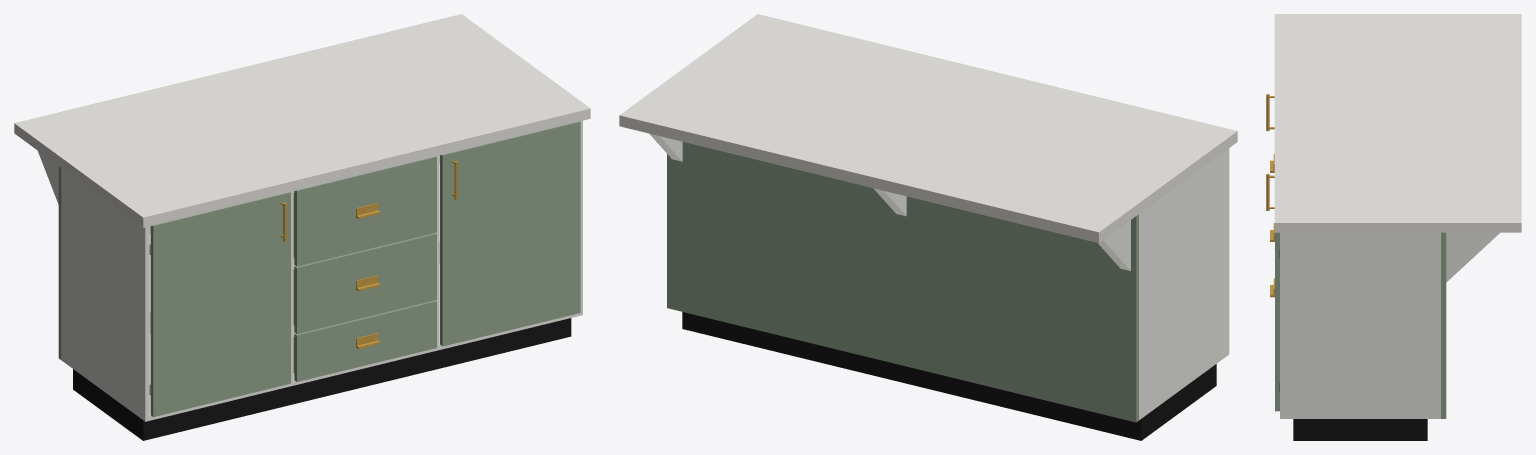
File: 020_kitchen_island.glb
3 views of the same model, side by side, from view 1: azimuth 30°, elevation 25°; view 2: azimuth 150°, elevation 25°; view 3: azimuth 270°, elevation 25° (orthographic). The views are drawn at different scales.
Visible parts, largest first — view 1: 051_quartz_top, 009_door_panel, 039_door_panel, 001_carcass_side_l, 031_drawer_3_front, 000_toe_kick, 023_drawer_2_front, 015_drawer_1_front, 003_carcass_bottom, 047_back_finish_panel, 002_carcass_side_r, 006_partition_2 (+1 smaller); view 2: 047_back_finish_panel, 051_quartz_top, 001_carcass_side_l, 000_toe_kick, 048_overhang_corbel; view 3: 051_quartz_top, 002_carcass_side_r, 000_toe_kick, 050_overhang_corbel, 047_back_finish_panel, 039_door_panel.
Boxes of the visible parts, x1,y1,x2,y2 form: 051_quartz_top: [14, 14, 590, 227]; 009_door_panel: [150, 192, 290, 416]; 039_door_panel: [440, 121, 580, 346]; 001_carcass_side_l: [61, 168, 149, 421]; 031_drawer_3_front: [294, 156, 436, 266]; 000_toe_kick: [73, 318, 571, 440]; 023_drawer_2_front: [294, 233, 436, 333]; 015_drawer_1_front: [294, 300, 436, 381]; 003_carcass_bottom: [149, 264, 578, 420]; 047_back_finish_panel: [58, 166, 61, 359]; 002_carcass_side_r: [578, 120, 582, 315]; 006_partition_2: [435, 156, 439, 345]; 047_back_finish_panel: [667, 142, 1138, 422]; 051_quartz_top: [619, 14, 1237, 243]; 001_carcass_side_l: [1139, 148, 1229, 420]; 000_toe_kick: [682, 312, 1216, 440]; 048_overhang_corbel: [1098, 220, 1130, 270]; 051_quartz_top: [1274, 14, 1521, 232]; 002_carcass_side_r: [1280, 232, 1440, 418]; 000_toe_kick: [1293, 419, 1427, 440]; 050_overhang_corbel: [1446, 232, 1499, 282]; 047_back_finish_panel: [1441, 232, 1446, 418]; 039_door_panel: [1275, 232, 1279, 411].
Size of the model in its own units: 1.84 by 0.915 by 0.951.
